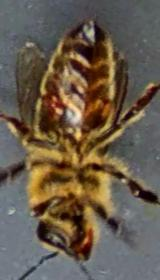varroa_mite: (34, 85, 66, 121), (85, 93, 121, 120)
